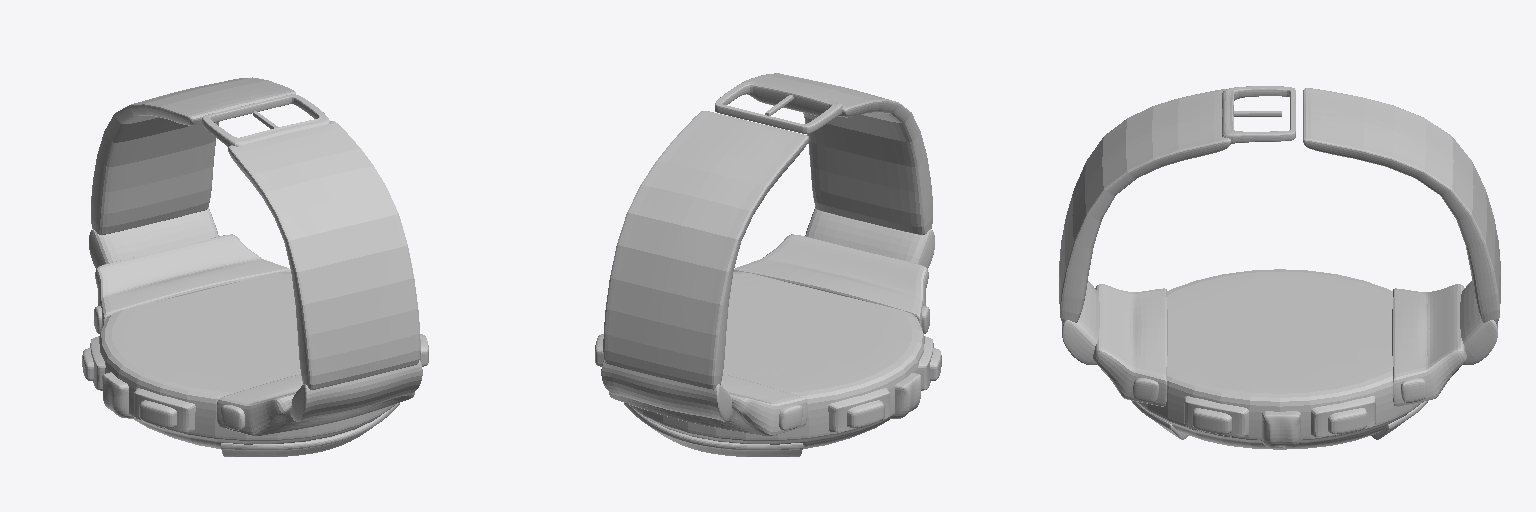
File: 10110_Digital Watch_v1_Iteration2.obj
3 renders of one model, left to right at view 1: azimuth 30°, elevation 25°; view 2: azimuth 150°, elevation 25°; view 3: azimuth 270°, elevation 25°, orthographic.
Visible parts, largest first — view 1: 10110_Digital_Watch_v1; view 2: 10110_Digital_Watch_v1; view 3: 10110_Digital_Watch_v1.
Boxes of the visible parts, <box> form: 10110_Digital_Watch_v1: <box>82,77,428,456</box>; 10110_Digital_Watch_v1: <box>595,73,941,456</box>; 10110_Digital_Watch_v1: <box>1059,86,1500,449</box>.
Bounding box in the file's own units: 4.77 × 4.5 × 6.18.